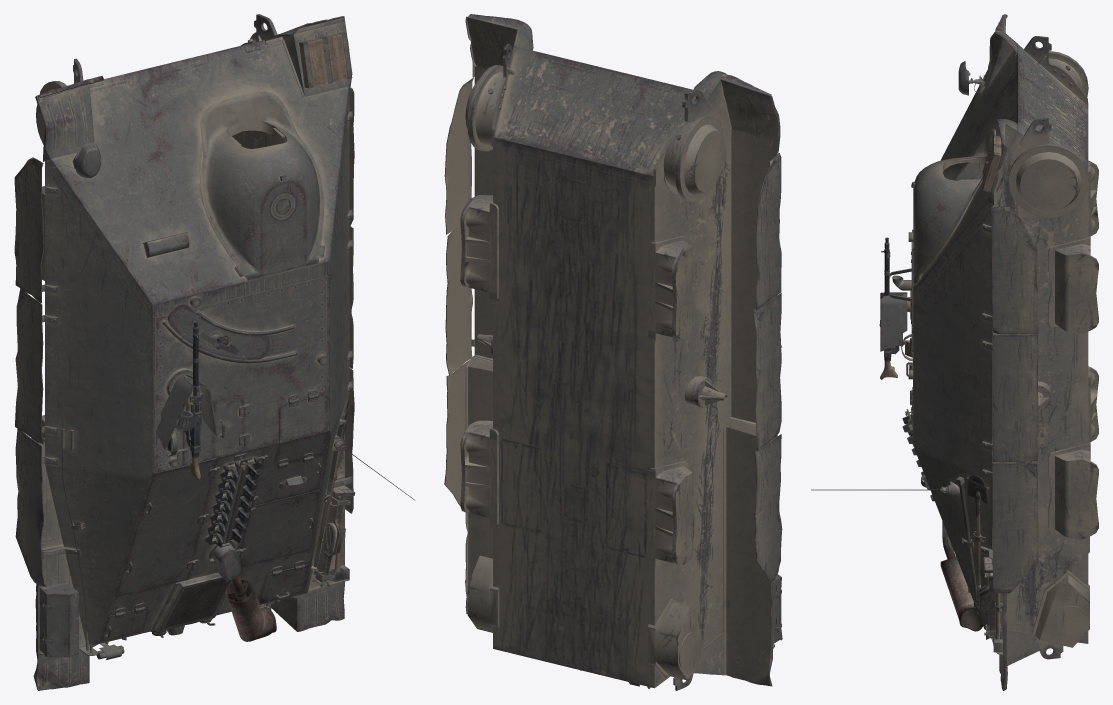
File: Hull.glb
3 renders of one model, left to right at view 1: azimuth 30°, elevation 25°; view 2: azimuth 150°, elevation 25°; view 3: azimuth 270°, elevation 25°, orthographic. The views are drawn at different scales.
Visible parts, largest first — view 1: set_0_group_0; view 2: set_0_group_0; view 3: set_0_group_0.
Part boxes in pixels (left/top/right/bottom): set_0_group_0: left=14, top=14, right=415, bottom=690; set_0_group_0: left=444, top=14, right=782, bottom=690; set_0_group_0: left=811, top=14, right=1098, bottom=690.
Size of the model in its own units: 2.67 by 4.89 by 2.32.
1 material, 1 textured.
